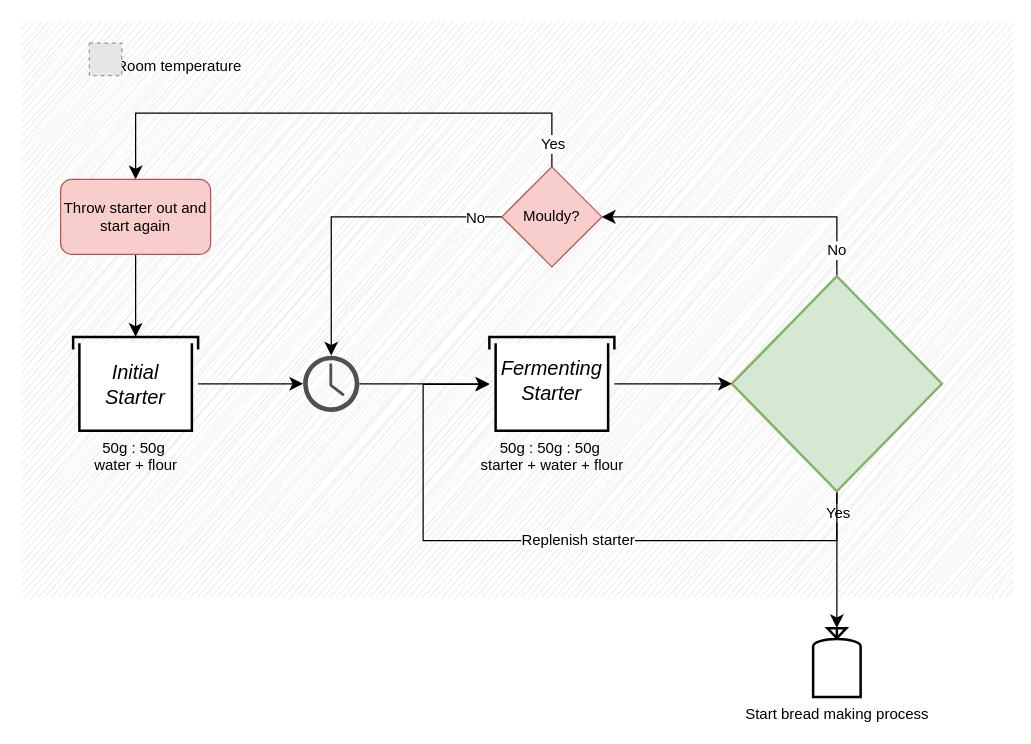
This 1031x744 diagram has some shape labels left out. Grey dashed boxes stand in for pictures. The shapes that lost their labels are listed below. From the top down, each one's centre as x and y in pixels, then its label:
At pixel 330 383: "24 hours".
At pixel 836 383: "Ready ? bubbly & smells sour like vinegar or something fermented".
